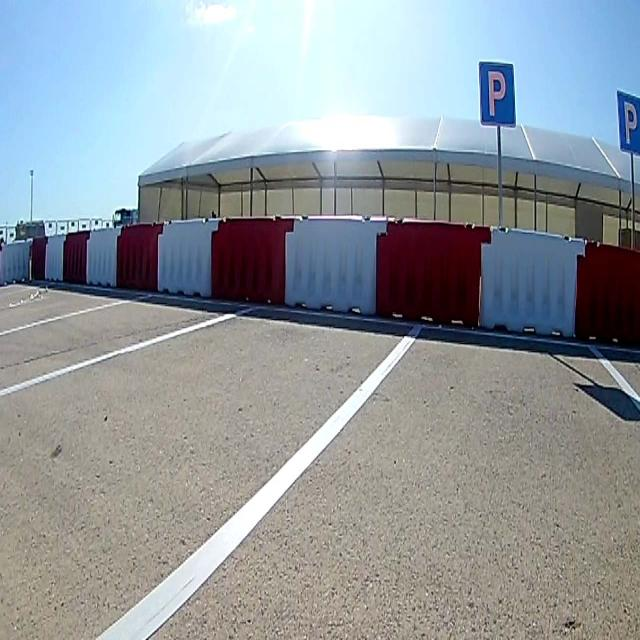park: (478, 61, 516, 128), (616, 88, 640, 159)
